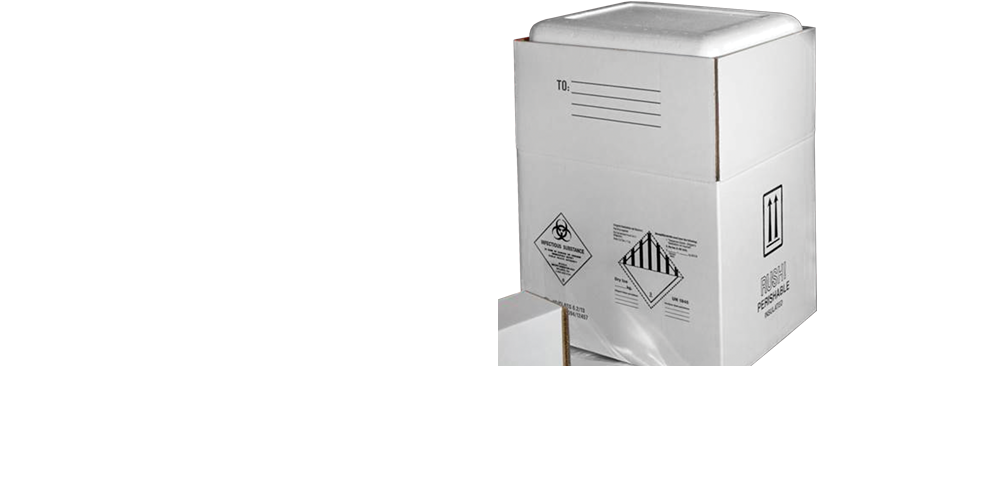InfectiousSubstance: (532, 212, 592, 286)
